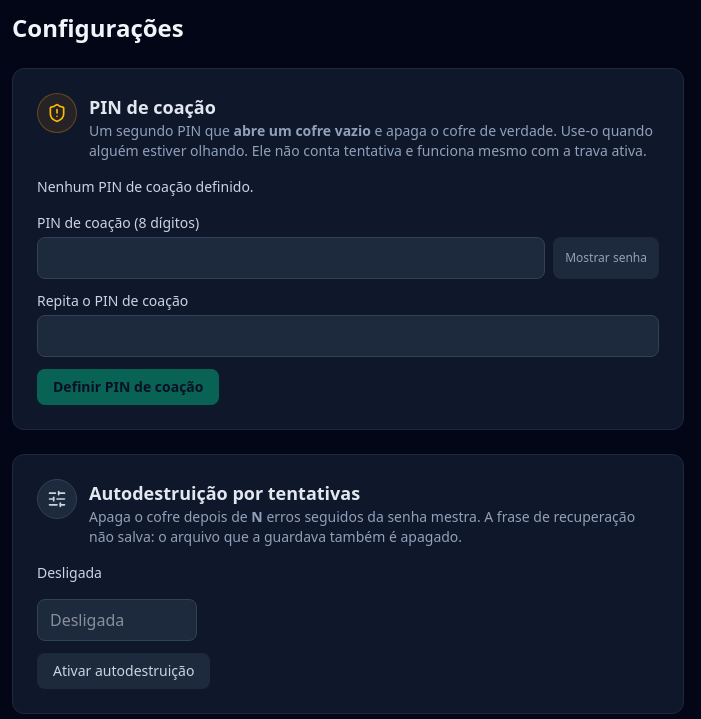
Test: Configurações: PIN de pânico › mostra o erro devolvido pelo main sem trocar a tela
In the password field labelled "PIN de coação (8 dígitos)": [291, 258] box x1=37 y1=237 x2=545 y2=279, type "73910456"
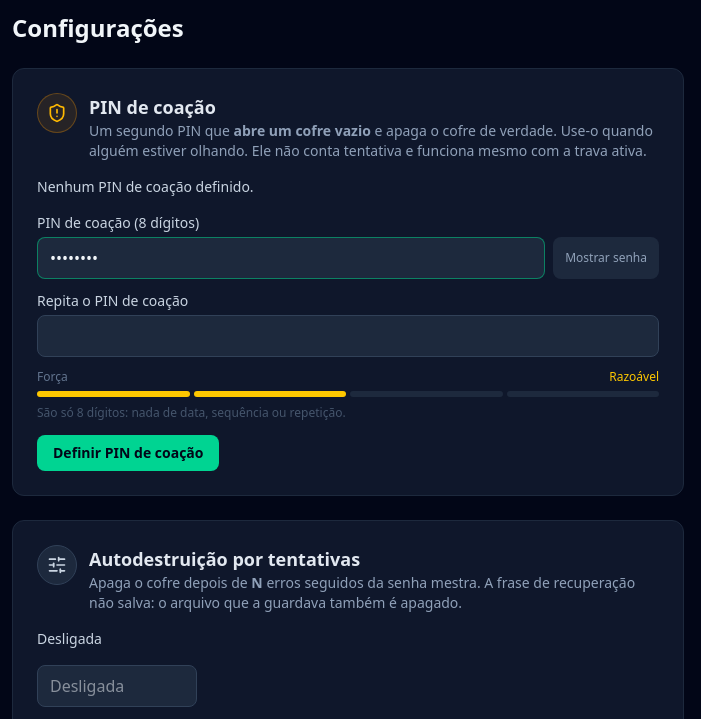
In the password field labelled "Repita o PIN de coação": [348, 336] box x1=37 y1=315 x2=659 y2=357, type "73910456"
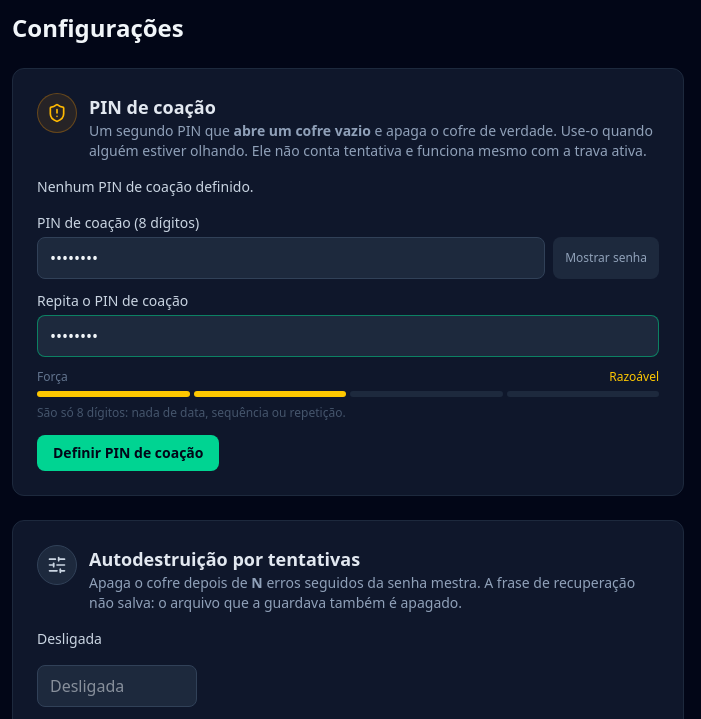
Click the button "Definir PIN de coação": [128, 452] box x1=37 y1=434 x2=220 y2=470
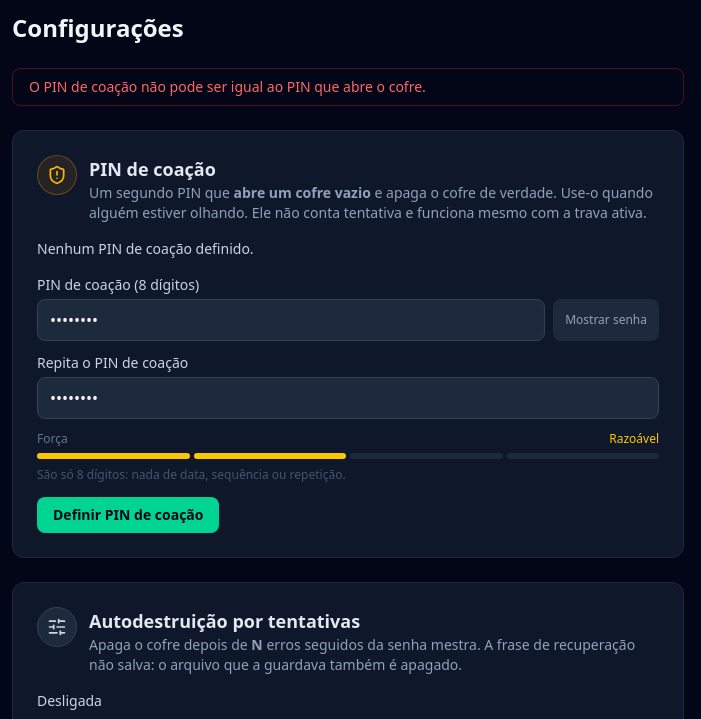
Now the text "O PIN de coação não pode ser igual ao PIN que abre o cofre." is shown, box x1=12 y1=68 x2=684 y2=106
